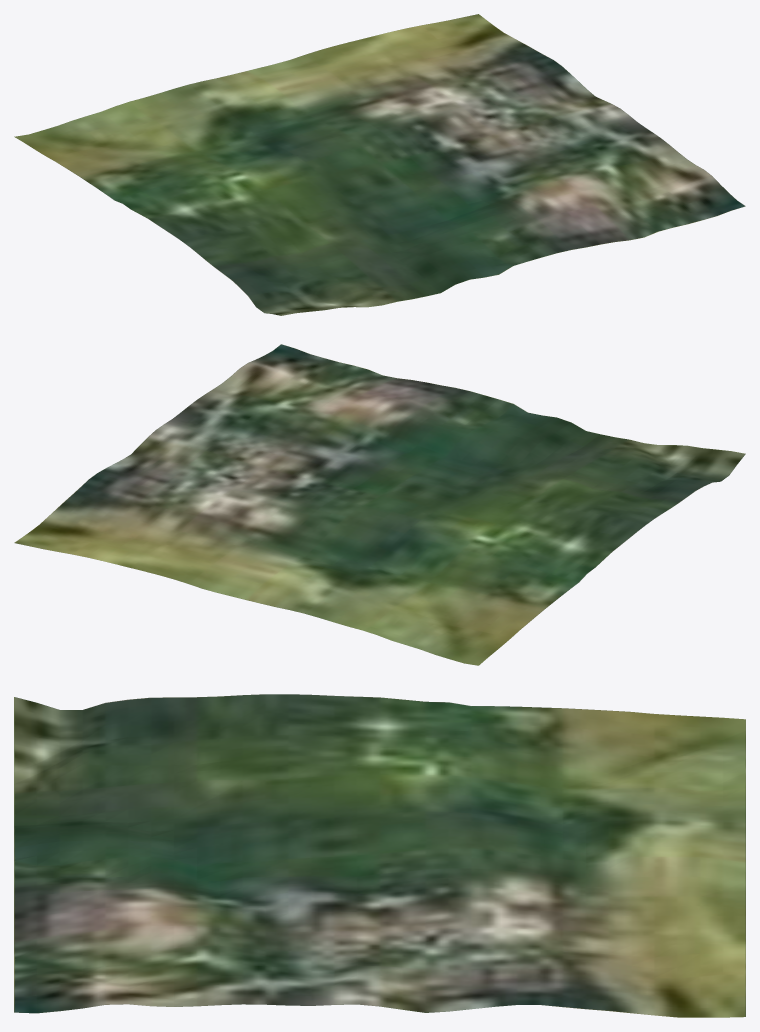
3 renders of one model, top to bottom at view 1: azimuth 30°, elevation 25°; view 2: azimuth 150°, elevation 25°; view 3: azimuth 270°, elevation 25°, orthographic. The views are drawn at different scales.
Size of the model in its own units: 975 by 41.49 by 971.
1 material, 1 textured.
